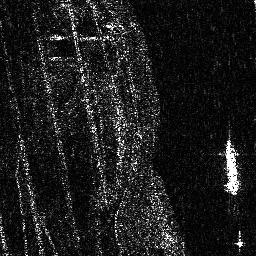ship: (223, 139, 242, 196)
